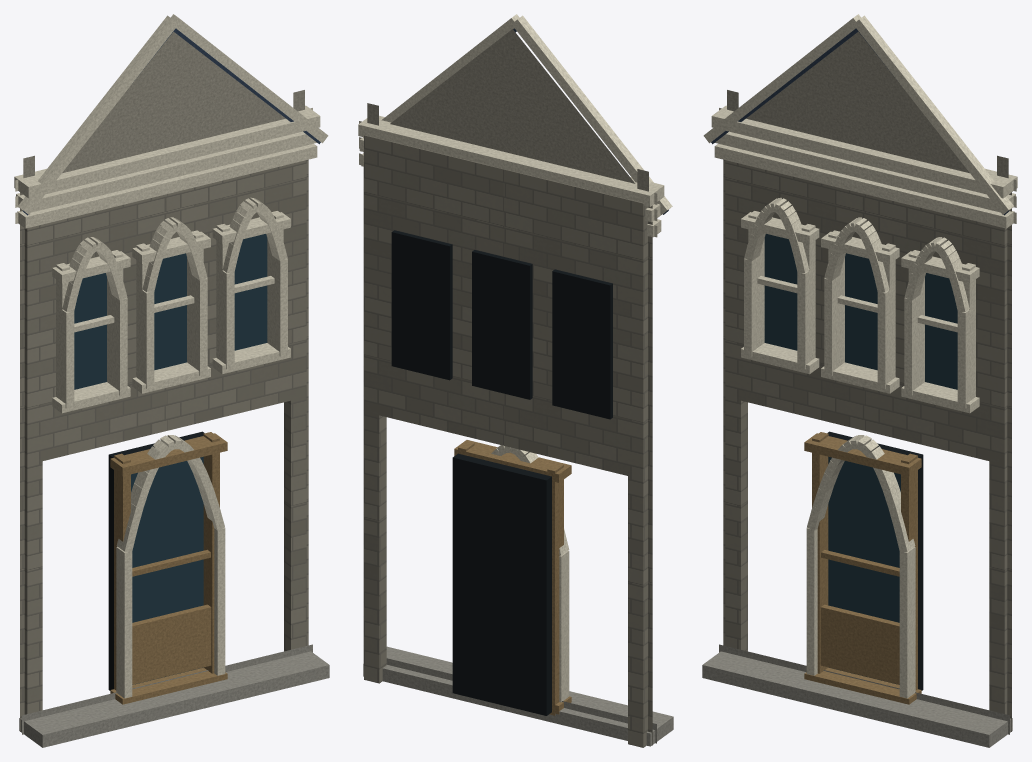
The model's file is CLSTGA19_lod2.glb.
The picture shows the model from 3 angles, left to right: view 1: azimuth 30°, elevation 25°; view 2: azimuth 150°, elevation 25°; view 3: azimuth 330°, elevation 25°; orthographic projection.
Visible parts, largest first — view 1: CLSTGA19_FRONT_LOD2; view 2: CLSTGA19_FRONT_LOD2; view 3: CLSTGA19_FRONT_LOD2.
Part boxes in pixels (x1,y1,x2,y2): CLSTGA19_FRONT_LOD2: (14,14,329,747); CLSTGA19_FRONT_LOD2: (358,14,673,747); CLSTGA19_FRONT_LOD2: (702,14,1017,747).
Bounding box in the file's own units: 3.94 × 8.46 × 0.68.
Materials: 9 (7 with a texture image).
